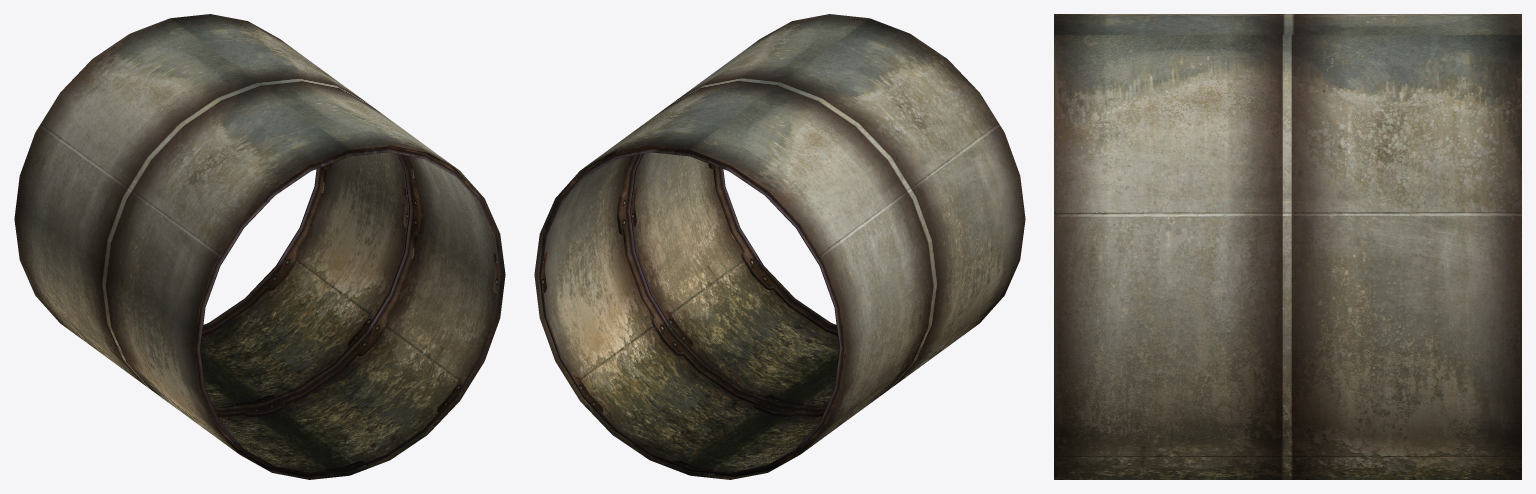
Rendered from flush_tunnel_02_07_straight_short.dae.
3 renders of one model, left to right at view 1: azimuth 30°, elevation 25°; view 2: azimuth 150°, elevation 25°; view 3: azimuth 270°, elevation 25°, orthographic. The views are drawn at different scales.
Visible parts, largest first — view 1: polySurface612; view 2: polySurface612; view 3: polySurface612.
Boxes of the visible parts, x1,y1,x2,y2 form: polySurface612: [14, 14, 505, 479]; polySurface612: [534, 14, 1025, 479]; polySurface612: [1054, 14, 1521, 479].
Bounding box in the file's own units: 4 × 4 × 4.
